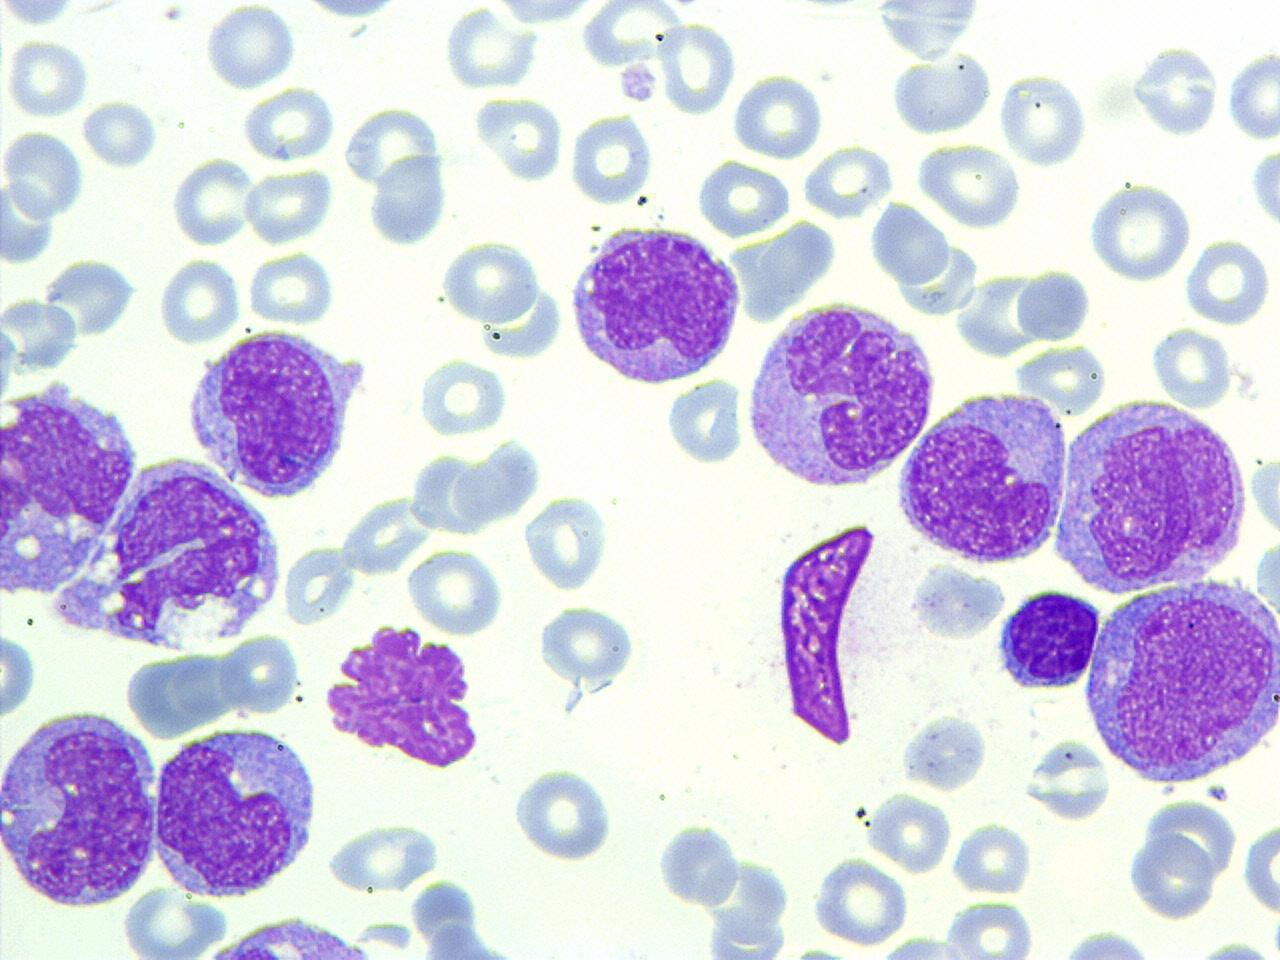Platelets: (533, 602, 640, 686), (1128, 42, 1220, 139), (907, 560, 1007, 644), (662, 375, 750, 468), (1021, 738, 1113, 822), (870, 2, 992, 61), (80, 99, 161, 169), (1224, 47, 1280, 144), (1247, 147, 1279, 228), (1252, 533, 1280, 615), (616, 58, 660, 105), (1198, 938, 1270, 960), (788, 942, 844, 960), (562, 686, 584, 718), (1269, 916, 1280, 958)
RBC: (440, 232, 562, 341), (1083, 179, 1195, 283), (509, 763, 619, 867), (914, 138, 1024, 229), (522, 489, 616, 595), (886, 46, 993, 139), (403, 544, 507, 638), (994, 68, 1090, 169), (323, 818, 442, 898), (810, 854, 912, 948), (441, 3, 542, 94), (534, 600, 638, 688), (730, 69, 826, 161), (1123, 830, 1219, 923), (201, 3, 300, 92), (566, 110, 657, 207), (1182, 233, 1274, 326), (471, 94, 565, 184), (117, 884, 228, 960), (239, 83, 339, 164), (2, 126, 88, 221), (692, 157, 793, 237), (415, 354, 510, 439), (156, 254, 243, 346), (656, 18, 736, 118), (864, 791, 956, 875), (169, 155, 254, 248), (242, 164, 338, 246), (1011, 341, 1113, 416), (1022, 738, 1114, 822), (1149, 322, 1235, 410), (800, 141, 894, 222), (2, 35, 92, 119), (579, 1, 689, 69), (218, 630, 301, 718), (868, 198, 949, 287), (246, 248, 336, 326), (949, 818, 1035, 898), (281, 541, 355, 628), (1012, 264, 1094, 343), (80, 98, 160, 170), (945, 898, 1039, 960), (1, 174, 57, 264), (1240, 812, 1280, 919), (0, 623, 40, 724), (0, 0, 78, 30)
WBC: (46, 451, 291, 661), (1078, 572, 1280, 790), (1045, 394, 1251, 598), (738, 296, 938, 495), (0, 703, 163, 912), (182, 325, 371, 502), (0, 374, 148, 598), (894, 386, 1073, 570), (563, 218, 746, 391), (147, 721, 321, 901), (770, 517, 892, 751), (317, 620, 491, 778), (342, 102, 458, 248), (993, 586, 1105, 696), (508, 762, 622, 868), (436, 235, 556, 332), (994, 65, 1093, 170), (810, 852, 912, 950), (885, 46, 994, 137), (1122, 826, 1224, 923), (522, 490, 614, 595), (1128, 40, 1222, 142), (187, 913, 390, 959), (0, 124, 71, 256), (438, 4, 542, 93), (904, 557, 1010, 643), (326, 820, 444, 896), (567, 108, 654, 211), (536, 600, 640, 684), (896, 708, 991, 794), (654, 820, 741, 911), (1023, 736, 1113, 822), (2, 35, 95, 118), (872, 1, 992, 59), (1014, 262, 1092, 346), (942, 899, 1037, 958), (1044, 925, 1172, 958), (0, 0, 93, 30)
